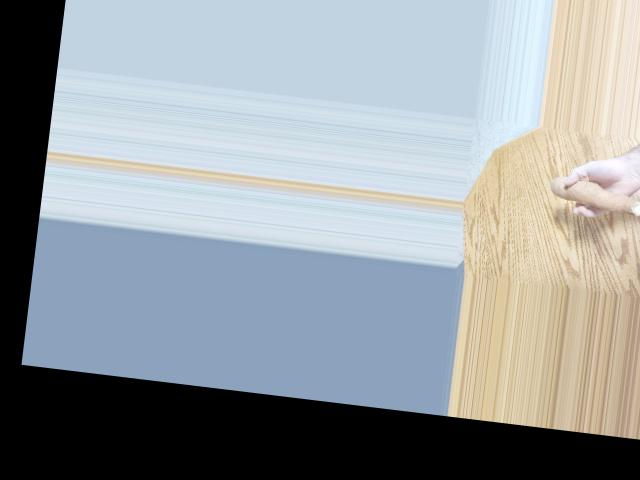sweet_potato: (550, 175, 640, 213)
